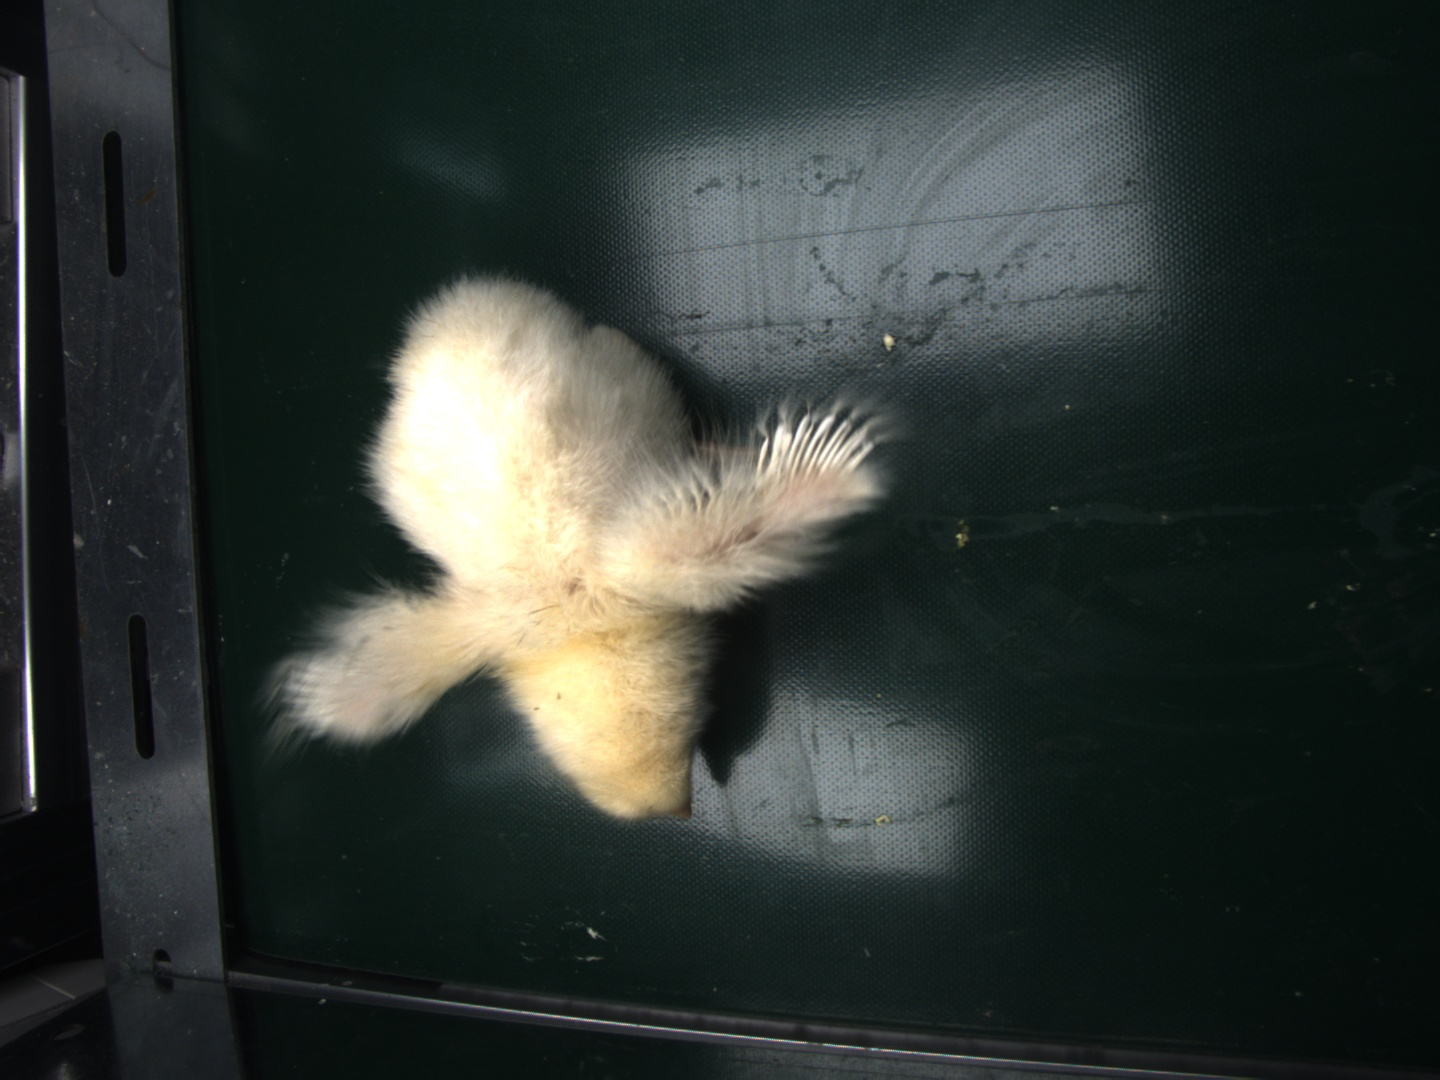male: (755, 410, 880, 482)
